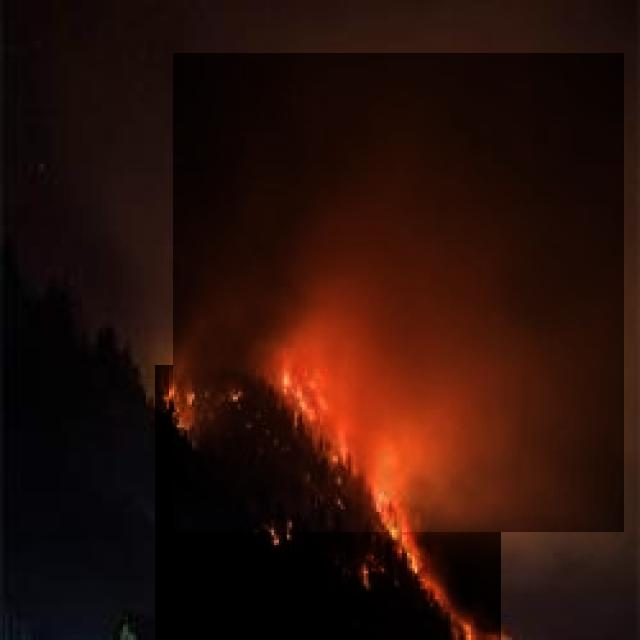Fire: (155, 365, 501, 640)
Smoke: (173, 53, 624, 532)
